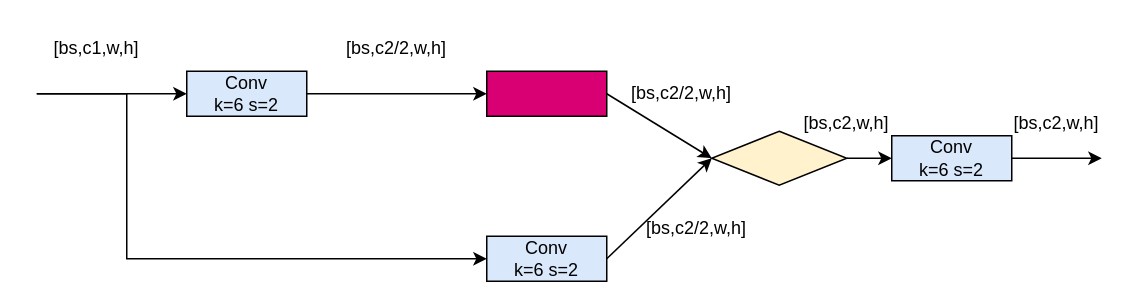
This 1143x308 diagram has some shape labels left out. The centre of each missing label's shape, as x and y in pixels:
"Bottleneck Bool" belongs at point (546, 93).
"Concat" belongs at point (778, 157).
